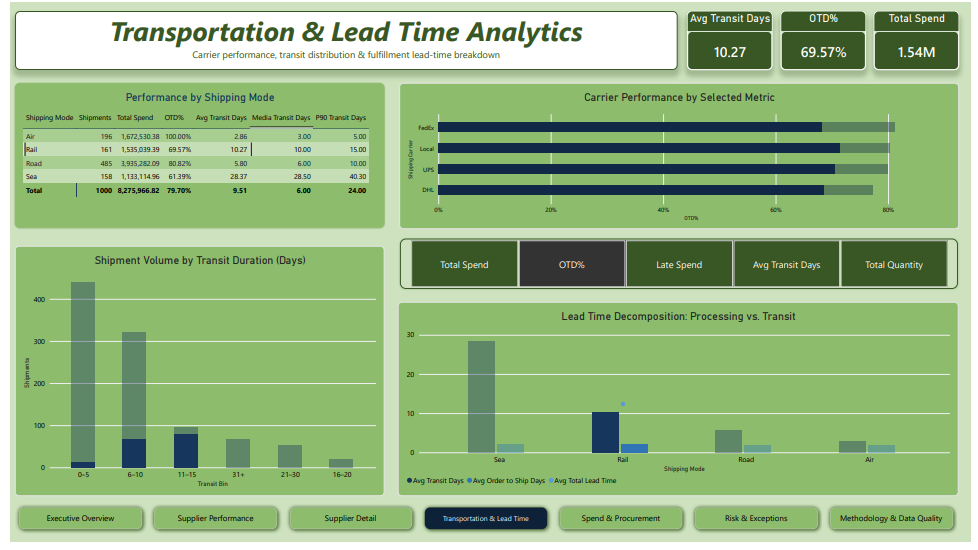

What the dashboard file says about the page in this screenshot:
{"tool":"powerbi","page":{"name":"Transportation & Lead Time ","canvas":[1920,1080],"ordinal":3},"visuals":[{"type":"textbox","box":[100,100,603.8,300],"z":0},{"type":"textbox","box":[10,18,1324,118],"z":1000},{"type":"pivotTable","title":"Performance by Shipping Mode","fields":{"Rows":["FactShipments.Shipping Mode"],"Values":["_Measures.Shipments","_Measures.Total Spend","_Measures.OTD%","_Measures.Avg Transit Days","_Measures.Media Transit Days","_Measures.P90 Transit Days"]},"box":[10,162,737.5,290],"z":2000},{"type":"clusteredBarChart","title":"Carrier Performance by Selected Metric","fields":{"Category":["DimTransportation.Shipping Carrier"],"Y":["_Measures.Late Spend"]},"box":[778,162,1118,292],"z":3000},{"type":"clusteredColumnChart","title":"Shipment Volume by Transit Duration (Days)","fields":{"Category":["FactShipments.Transit Bin"],"Y":["_Measures.Shipments"]},"box":[10,487.5,737.5,500],"z":4000},{"type":"lineClusteredColumnComboChart","title":"Lead Time Decomposition: Processing vs. Transit","fields":{"Category":["FactShipments.Shipping Mode"],"Y":["_Measures.Avg Transit Days","_Measures.Avg Order to Ship Days"],"Y2":["_Measures.Avg Total Lead Time"]},"box":[775,600,1120,387.5],"z":5000},{"type":"cardVisual","fields":{"Data":["_Measures.Avg Transit Days"]},"box":[1353,18,170,118],"z":6000},{"type":"cardVisual","fields":{"Data":["_Measures.OTD%"]},"box":[1540,18,170,118],"z":7000},{"type":"cardVisual","fields":{"Data":["_Measures.Total Spend"]},"box":[1726,18,170,118],"z":8000},{"type":"slicer","fields":{"Values":["Metric Selectors.Metric Selectors"]},"box":[778.6,472.9,1115.7,101.4],"z":9000},{"type":"pageNavigator","box":[10,1002,1885,61],"z":9001}]}

Visuals, with their boxes in screenshot pixels (x1, y1, x2, y2), scaled from the page's 1920x1080 canvas onto the 978x550 screenshot:
textbox: [51, 51, 358, 204]
textbox: [5, 9, 680, 69]
"Performance by Shipping Mode" pivotTable: [5, 82, 381, 230]
"Carrier Performance by Selected Metric" clusteredBarChart: [396, 82, 966, 231]
"Shipment Volume by Transit Duration (Days)" clusteredColumnChart: [5, 248, 381, 503]
"Lead Time Decomposition: Processing vs. Transit" lineClusteredColumnComboChart: [395, 306, 965, 503]
cardVisual - _Measures.Avg Transit Days: [689, 9, 776, 69]
cardVisual - _Measures.OTD%: [784, 9, 871, 69]
cardVisual - _Measures.Total Spend: [879, 9, 966, 69]
slicer - Metric Selectors.Metric Selectors: [397, 241, 965, 292]
pageNavigator: [5, 510, 965, 541]
